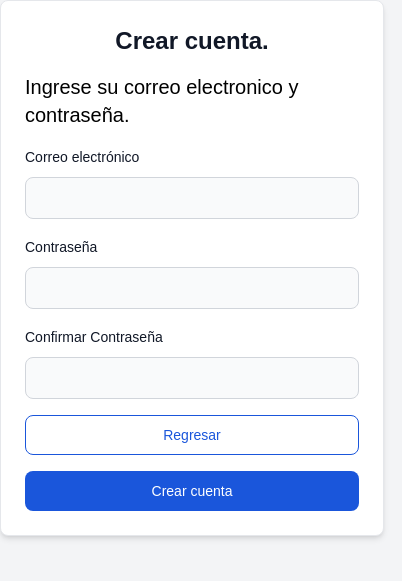
UserRegistration › shows validation error for password missing uppercase
The image size is (402, 581).
Type "test@example.com" into the field labelled "Correo electrónico" at (192, 198), box x1=25 y1=177 x2=359 y2=219
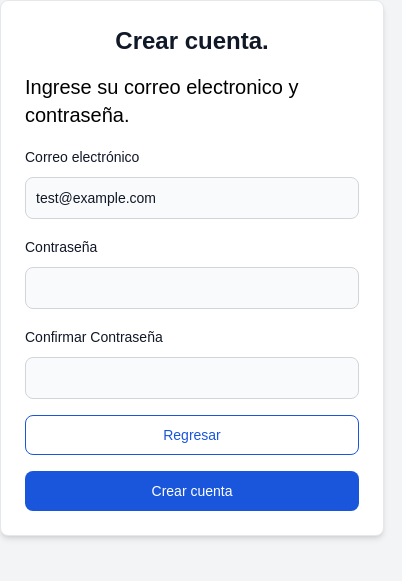
Type "validpassword123!@#" into the password field with test id "password" at (192, 288), box x1=25 y1=267 x2=359 y2=309
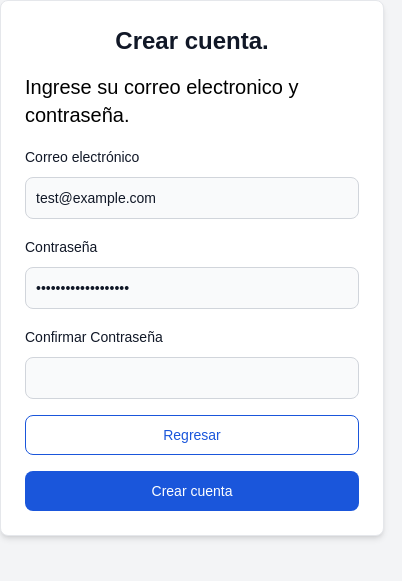
Type "validpassword123!@#" into the password field with test id "confirmPassword" at (192, 378), box x1=25 y1=357 x2=359 y2=399
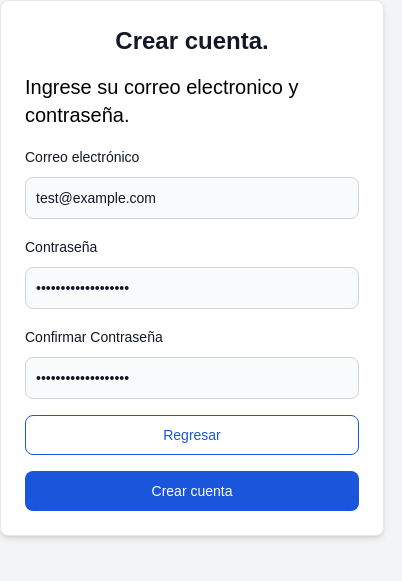
Click the button "Crear cuenta" at (192, 491), box x1=25 y1=471 x2=359 y2=511
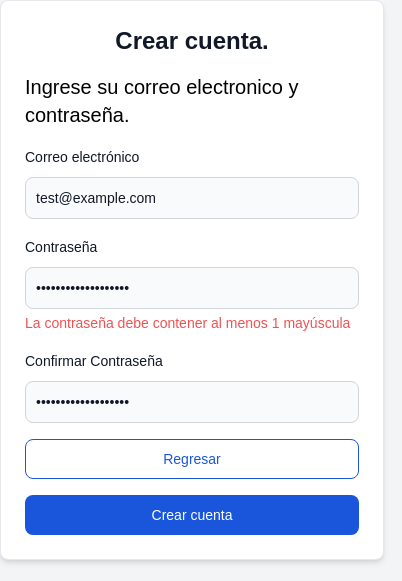
Now the text "La contraseña debe contener al menos 1 mayúscula" is shown, box x1=25 y1=313 x2=359 y2=333
